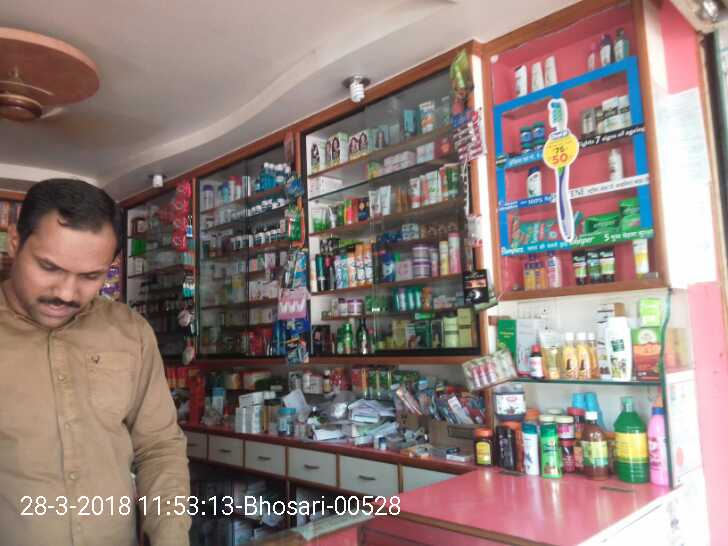vicks: (518, 120, 547, 155)
